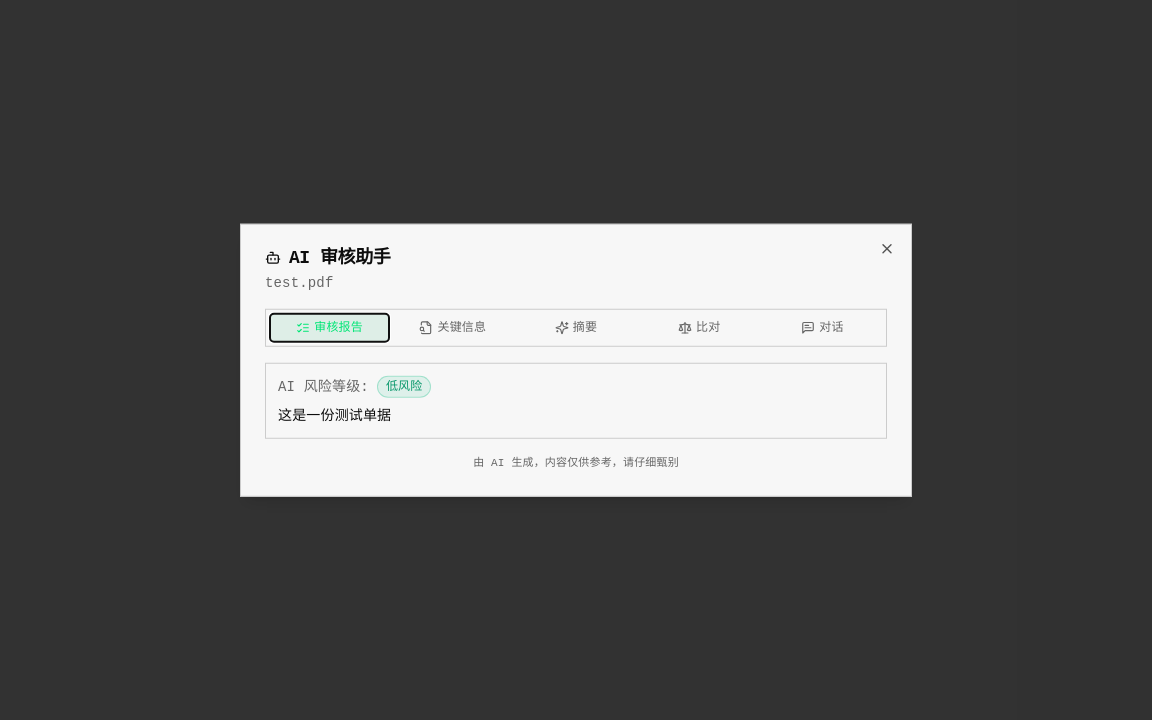
Scenario: AiAssistantDialog › 摘要标签页触发摘要并展示文本
The image size is (1152, 720).
Click the button "摘要".
click(576, 328)  # box [516, 314, 636, 342]
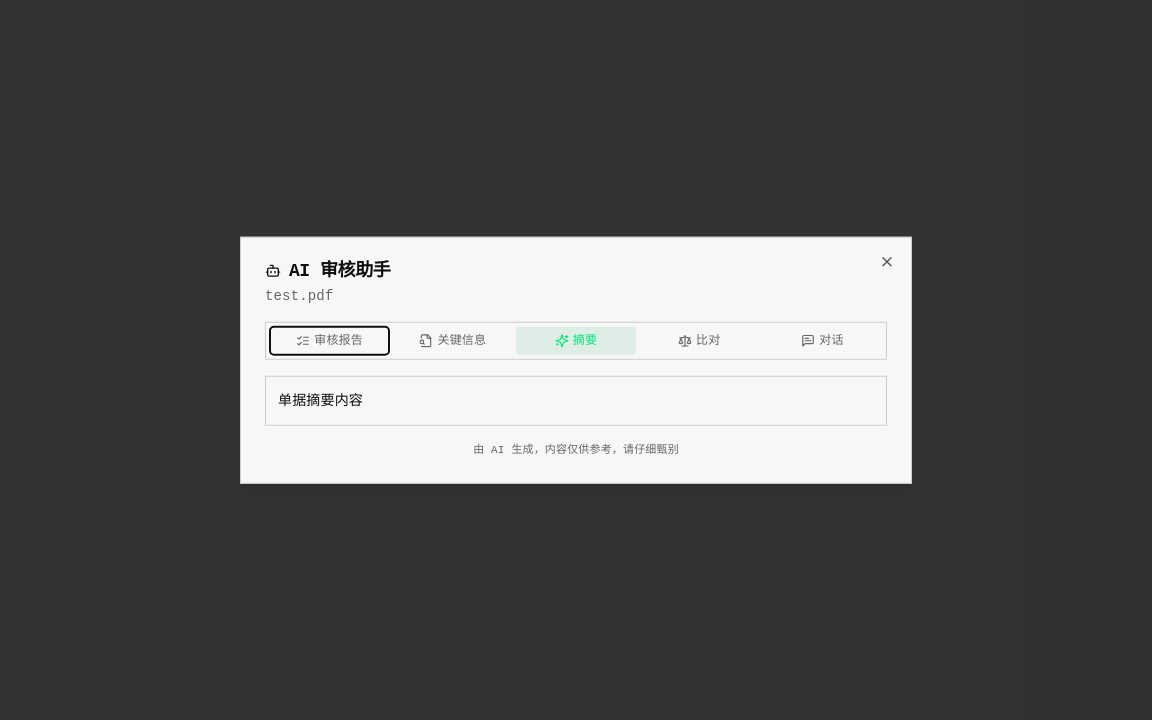
Expected: the text "单据摘要内容" is shown, [278, 393, 363, 409]
